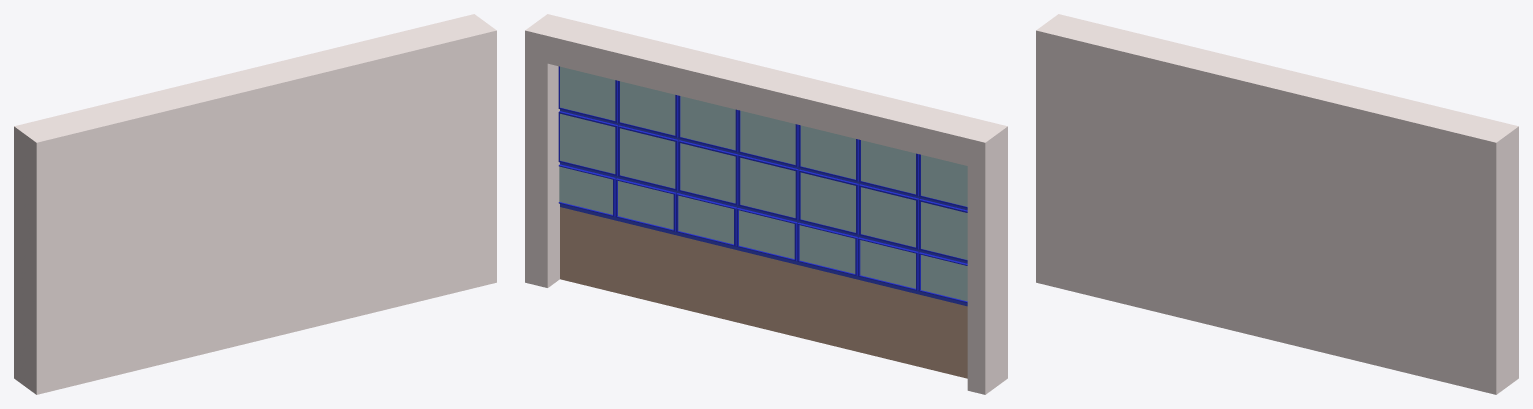
Rendered from wall plain.fbx.
3 views of the same model, side by side, from view 1: azimuth 30°, elevation 25°; view 2: azimuth 150°, elevation 25°; view 3: azimuth 330°, elevation 25° (orthographic).
Parts seen in each view (by area): view 1: Cube.001; view 2: Cube.001; view 3: Cube.001.
Boxes of the visible parts, x1,y1,x2,y2 form: Cube.001: (14, 14, 496, 394); Cube.001: (525, 14, 1007, 394); Cube.001: (1036, 14, 1518, 394).
Bounding box in the file's own units: 2010 × 1052 × 170.
